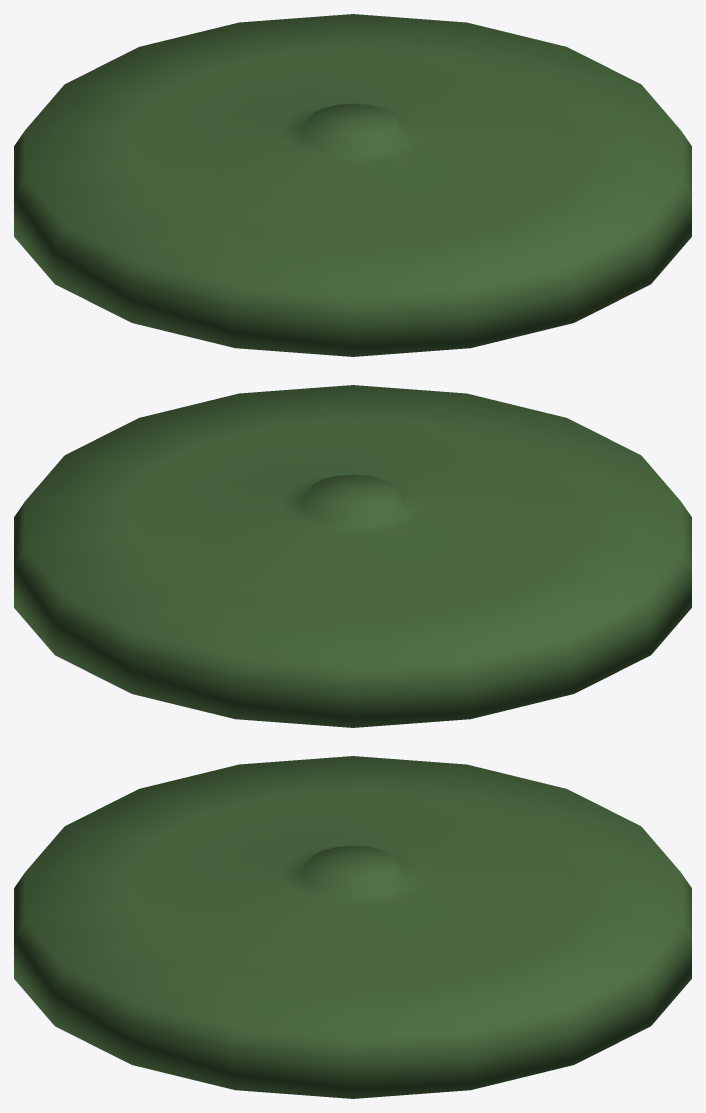
Rendered from SciFi_Disc.fbx.
The picture shows the model from 3 angles, top to bottom: view 1: azimuth 30°, elevation 25°; view 2: azimuth 150°, elevation 25°; view 3: azimuth 270°, elevation 25°; orthographic projection.
Parts seen in each view (by area): view 1: SciFi_Disc; view 2: SciFi_Disc; view 3: SciFi_Disc.
Part boxes in pixels (x1,y1,x2,y2): SciFi_Disc: [14, 14, 691, 356]; SciFi_Disc: [14, 385, 691, 727]; SciFi_Disc: [14, 756, 691, 1098].
Size of the model in its own units: 5.2 by 1.49 by 5.13.
